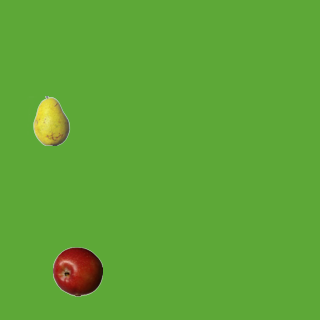Apple Braeburn: (52, 246, 102, 296)
Pear Monster: (26, 95, 76, 145)
